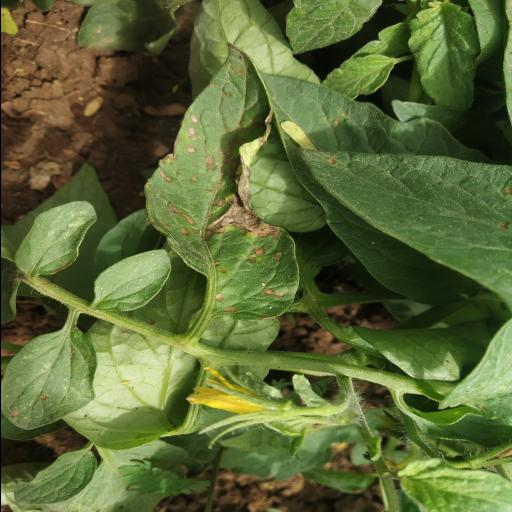disease_tomato: (144, 42, 299, 324)
